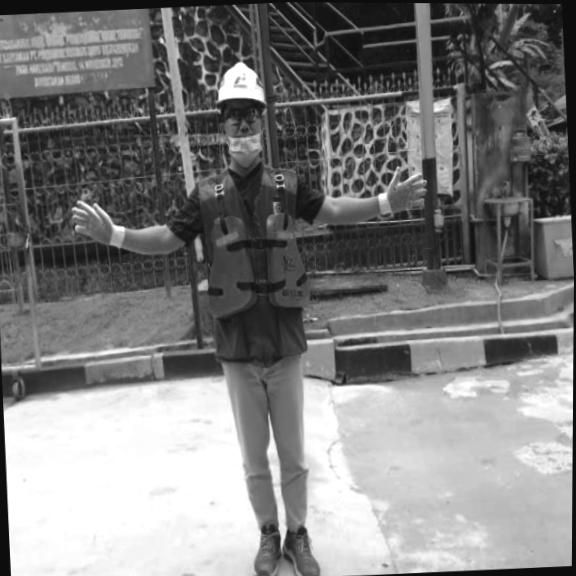safety_vest: (201, 209, 312, 319)
